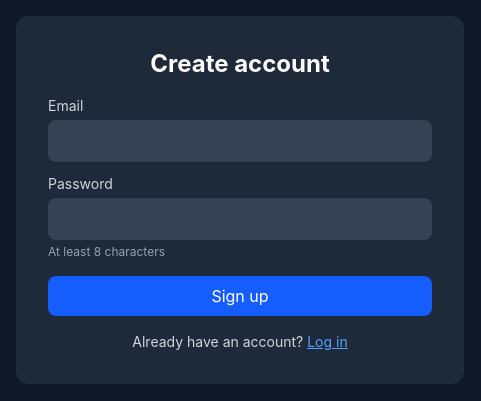
Test case: a created account replaces the form with the check-your-email message
Type "new@example.com" into the field labelled "Email".
click(240, 141); type("new@example.com")  # box [48,120,432,162]
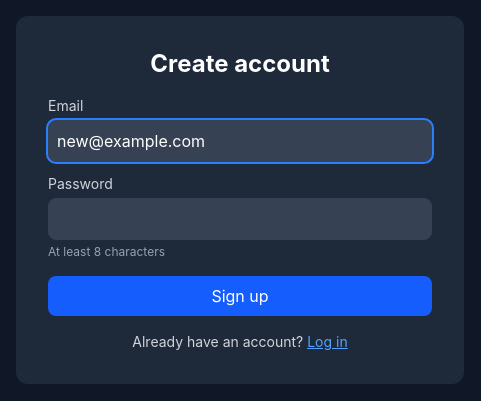
Type "password1" into the password field labelled "Password".
click(240, 219); type("password1")  # box [48,198,432,240]
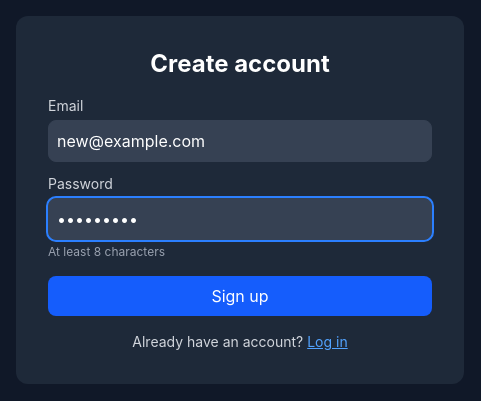
Click the button "Sign up".
click(240, 296)  # box [48,276,432,316]
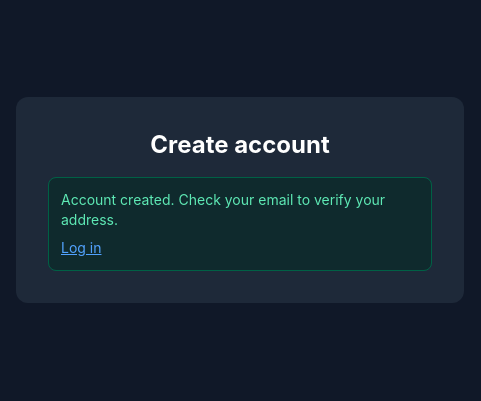
Result: the message shows "Account created. Check your email to verify your address." at [61,191,385,228]
Result: the button "Sign up" is gone
